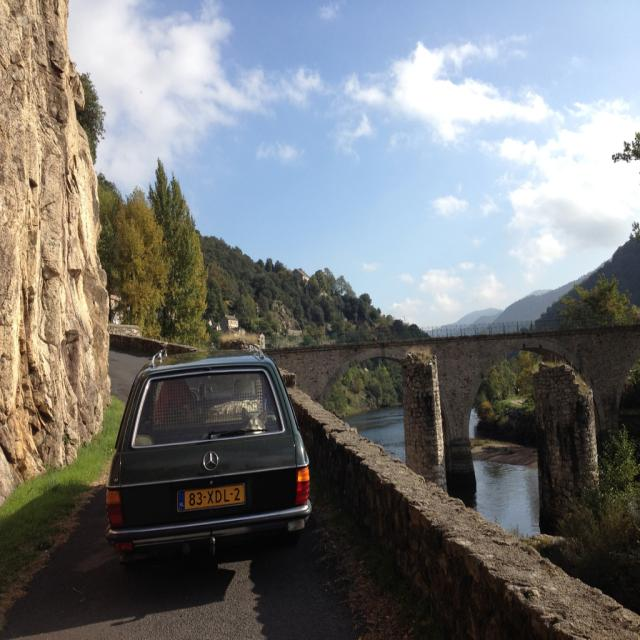car: (103, 347, 315, 579)
